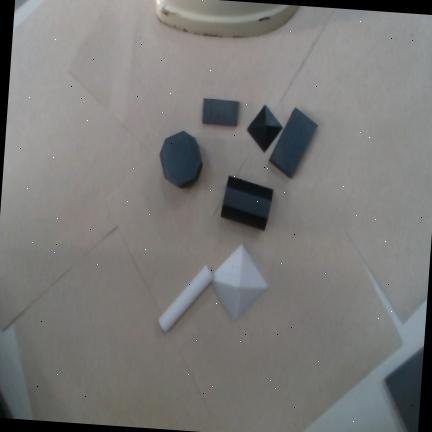Cilindro: (157, 264, 212, 331)
Paralelepipedo: (268, 106, 318, 178), (201, 98, 240, 127)
Piramide: (210, 242, 268, 321), (245, 104, 283, 153)
Prisma_hexagonal: (220, 175, 273, 231), (159, 130, 202, 188)
